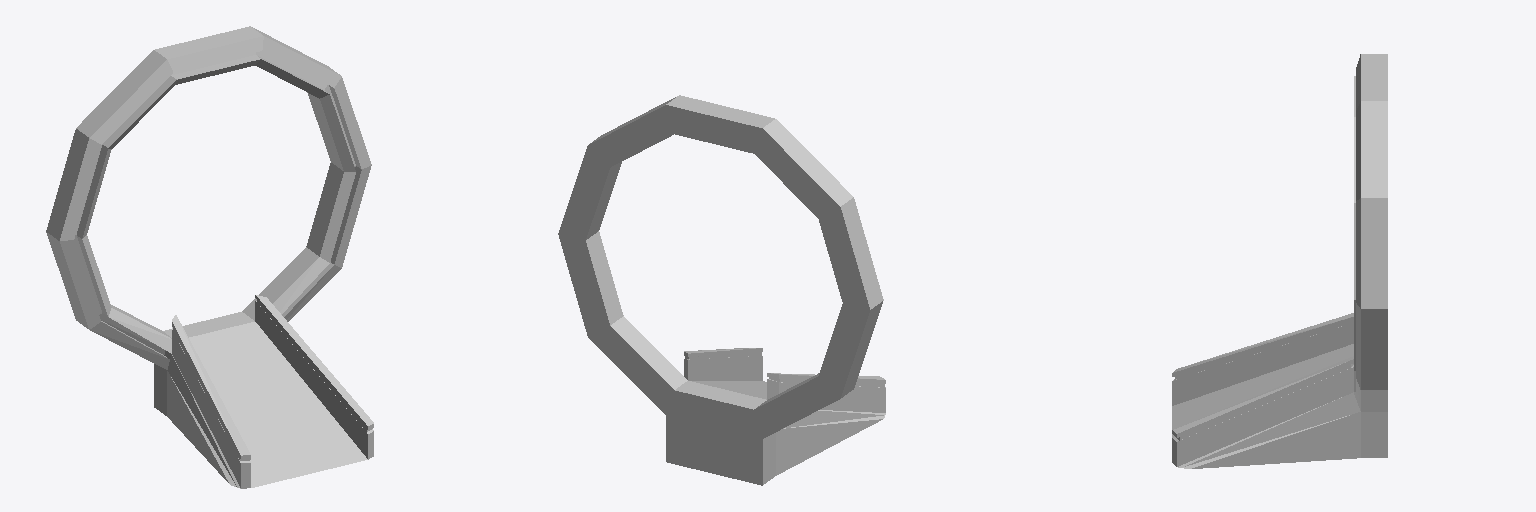
The model's file is teleporter.obj.
The picture shows the model from 3 angles: view 1: azimuth 30°, elevation 25°; view 2: azimuth 150°, elevation 25°; view 3: azimuth 270°, elevation 25°; orthographic projection.
Visible parts, largest first — view 1: polySurface4 Stargate_01; view 2: polySurface4 Stargate_01; view 3: polySurface4 Stargate_01.
Part boxes in pixels (x1,y1,x2,y2): polySurface4 Stargate_01: (46, 26, 373, 488); polySurface4 Stargate_01: (558, 95, 885, 485); polySurface4 Stargate_01: (1172, 54, 1387, 468).
Bounding box in the file's own units: 1.48 × 1.61 × 0.8804.